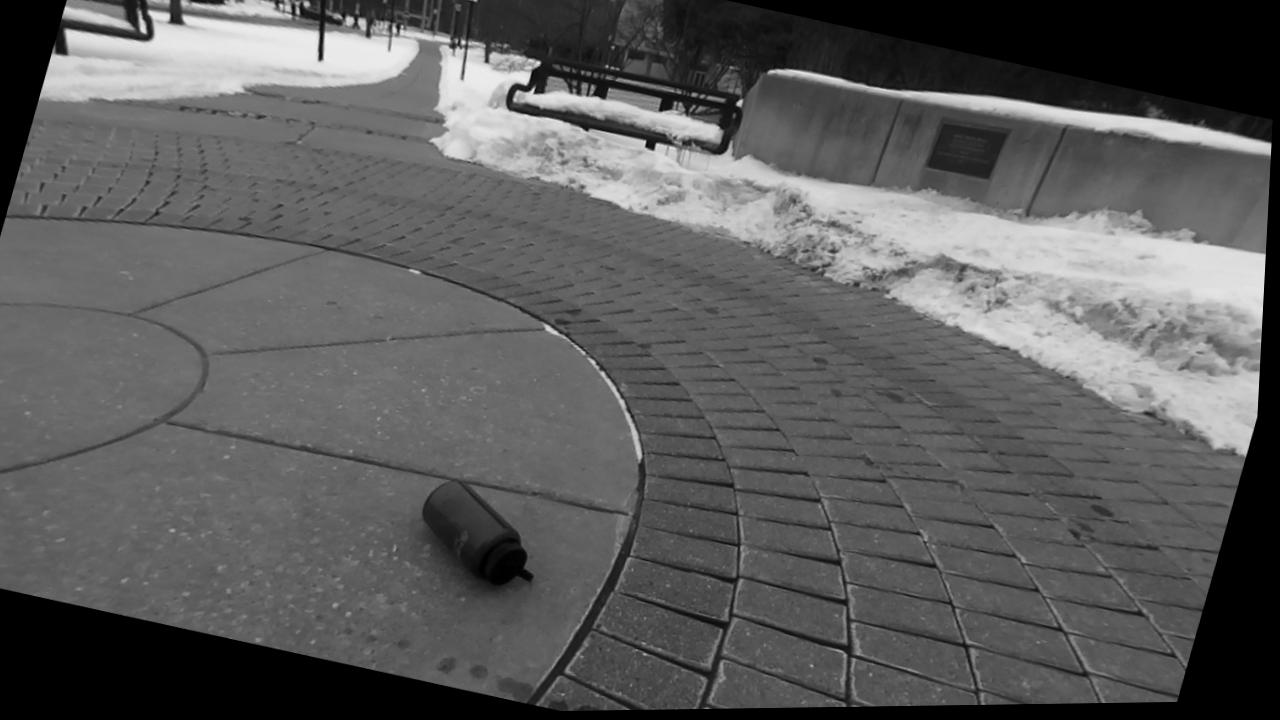bottle: (421, 480, 531, 584)
